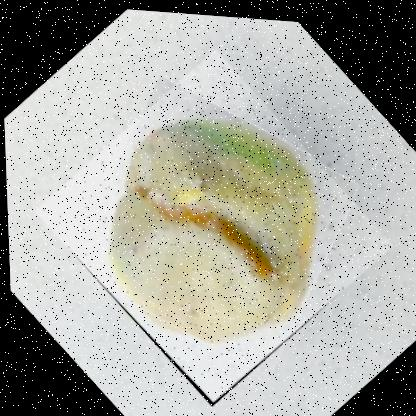orange_rotten: (26, 34, 397, 415)
